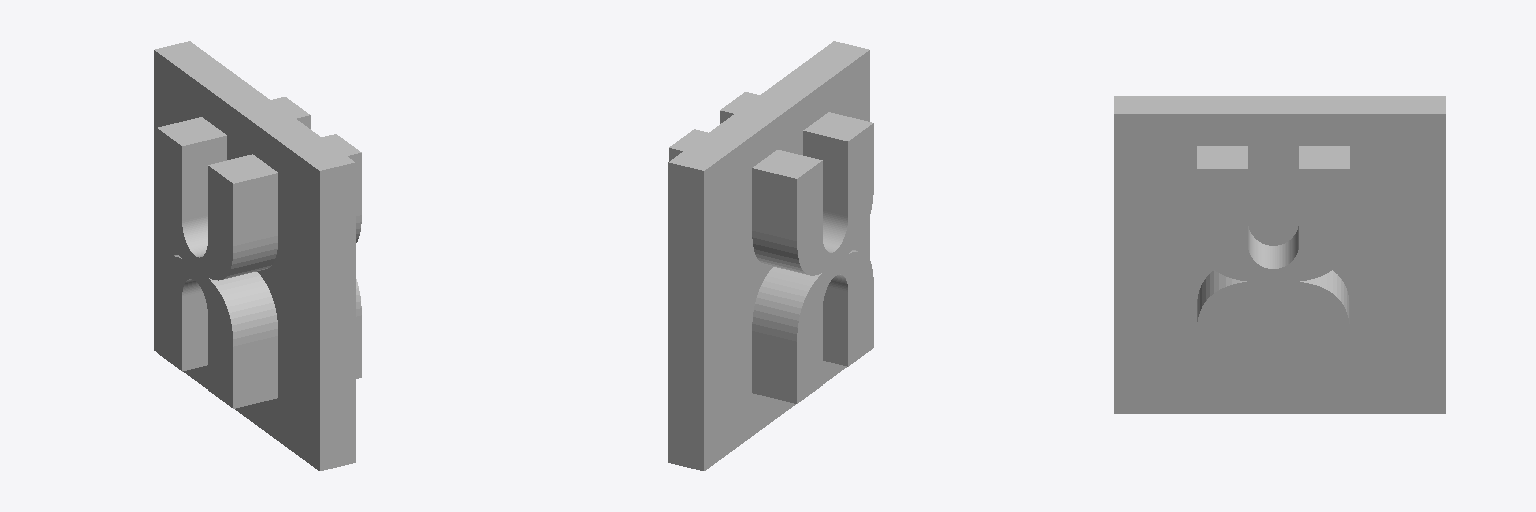
File: letter_X.obj
3 views of the same model, side by side, from view 1: azimuth 30°, elevation 25°; view 2: azimuth 150°, elevation 25°; view 3: azimuth 270°, elevation 25° (orthographic).
Visible parts, largest first — view 1: window, Text; view 2: window, Text; view 3: window, Text.
Part boxes in pixels (left/top/right/bottom): window: left=154, top=41, right=355, bottom=470; Text: left=157, top=97, right=361, bottom=408; window: left=668, top=41, right=869, bottom=470; Text: left=669, top=92, right=873, bottom=403; window: left=1114, top=96, right=1445, bottom=413; Text: left=1197, top=146, right=1349, bottom=393.
Size of the model in its own units: 0.894 by 2 by 2.